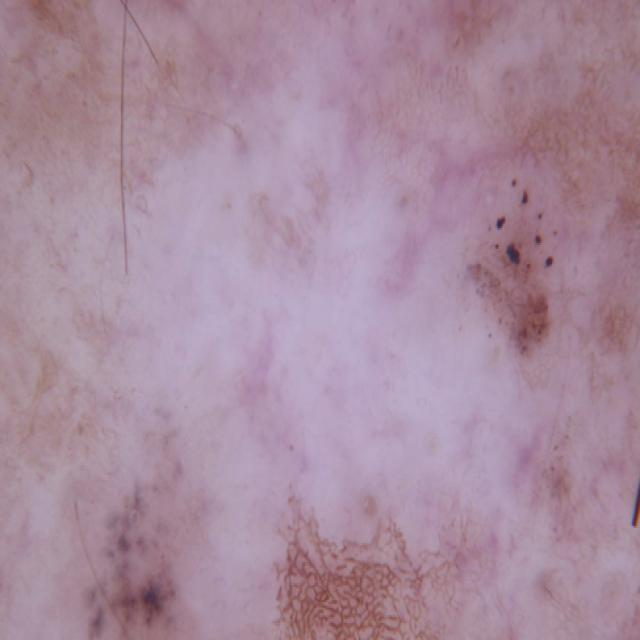Carcinoma: (229, 457, 491, 640), (449, 165, 612, 392), (42, 480, 208, 640)
